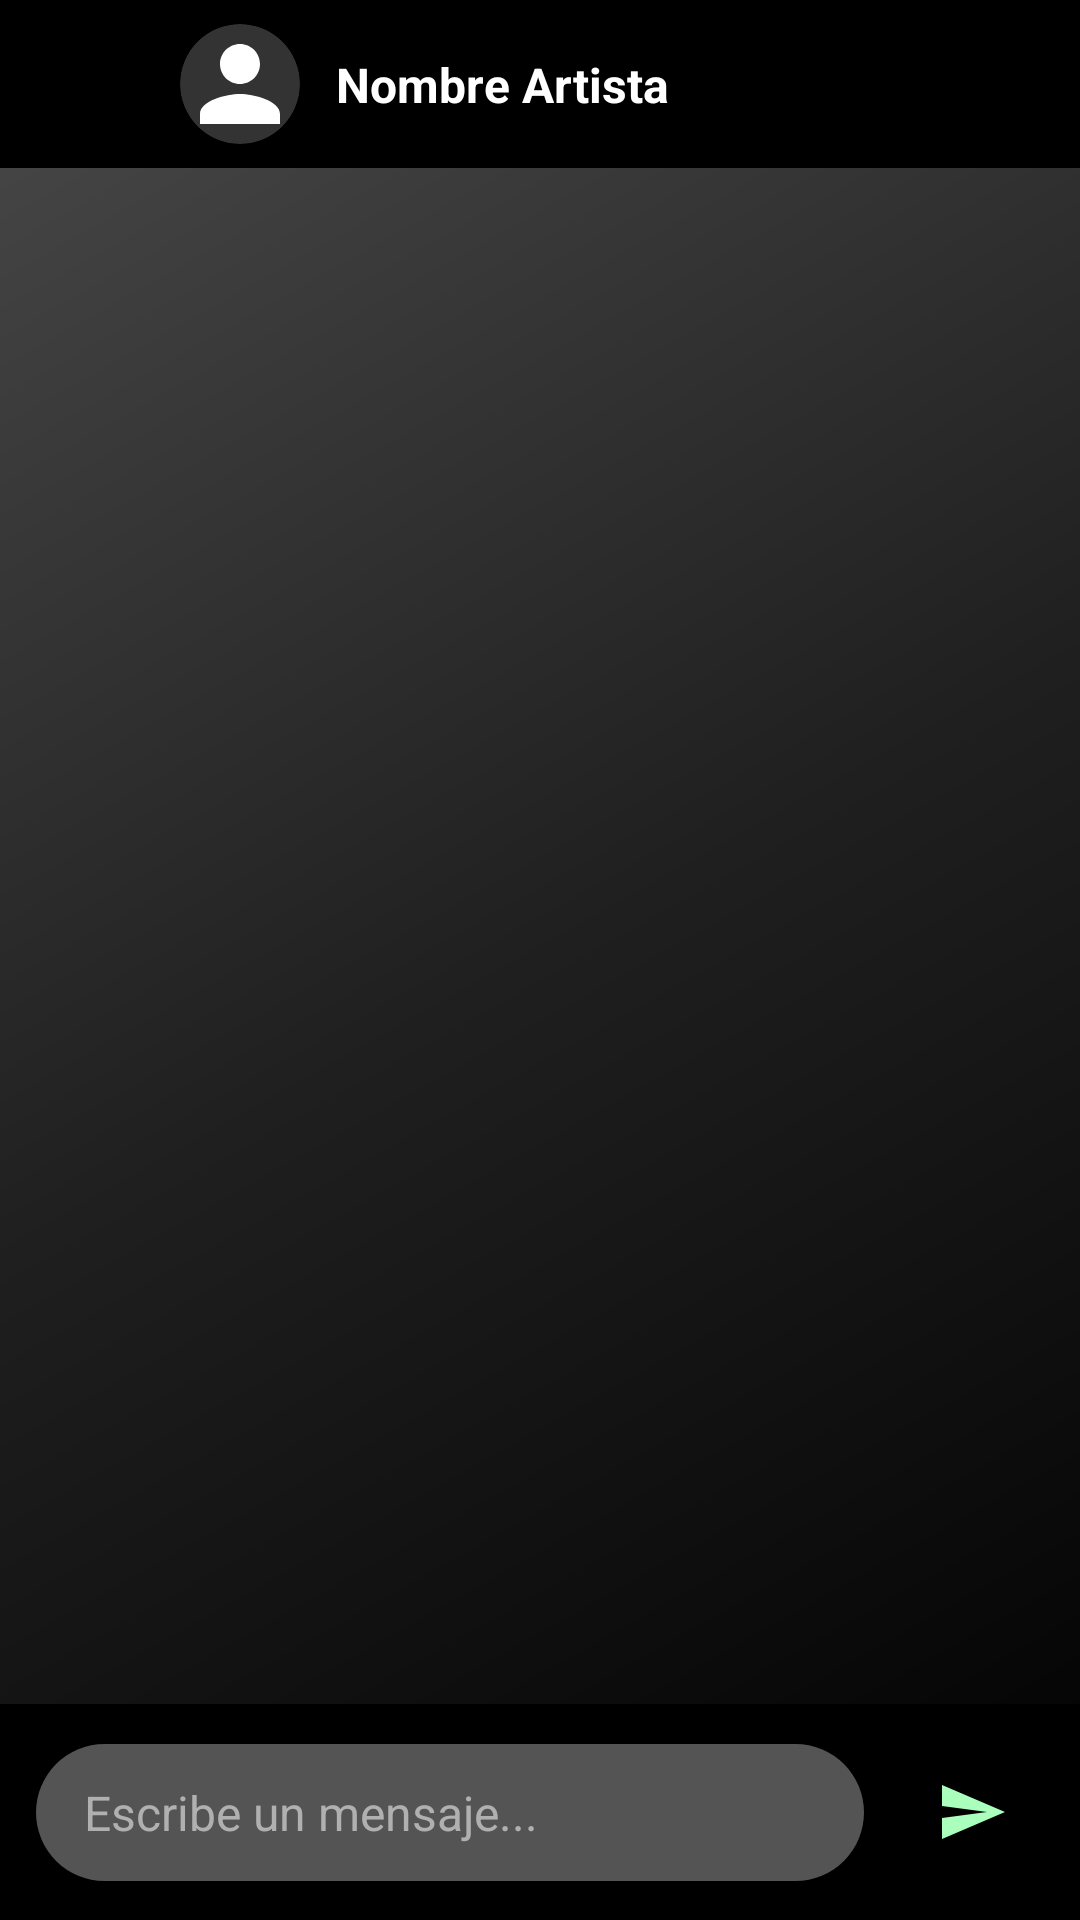

Icons on this 1080×1920 Android screen, each with the point to tap as (x=x, y=y):
send: (x=973, y=1812)
usuario perfil: (x=240, y=84)
